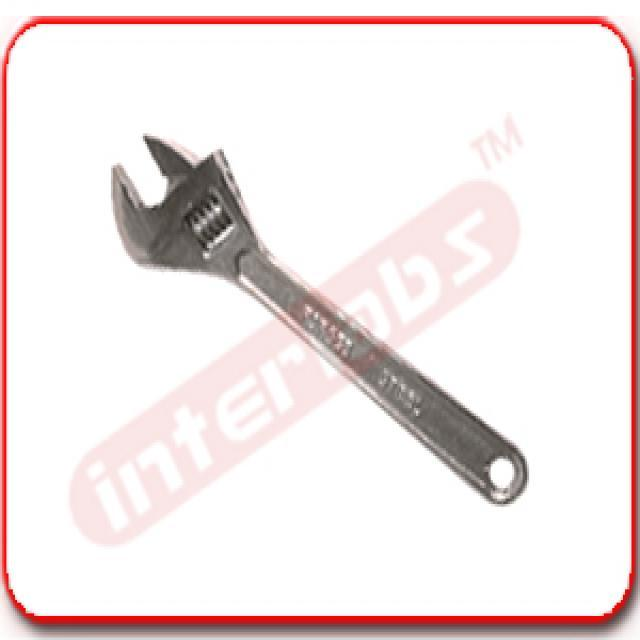wrench: (107, 120, 538, 514)
